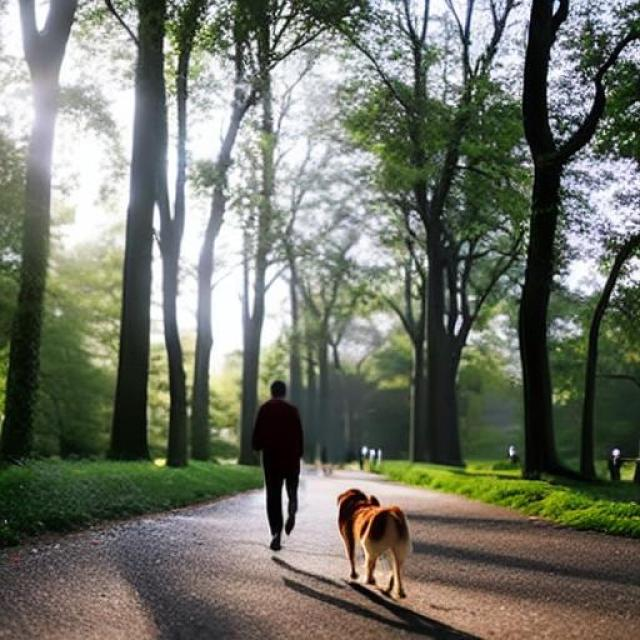Unleashed_Dog: (264, 455, 412, 602)
